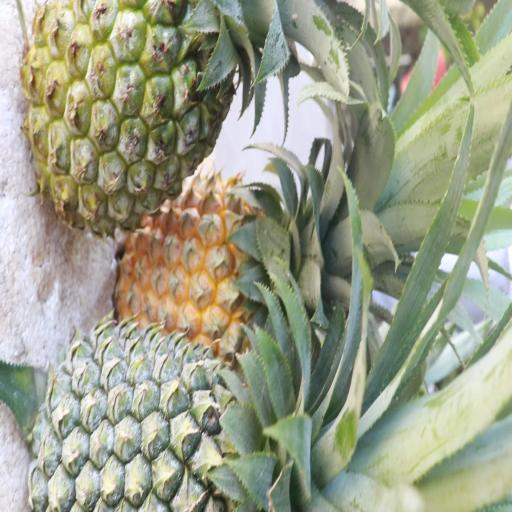------------------------------: (32, 0, 245, 229)
Pineapple - v8 v1: (120, 174, 314, 342)
